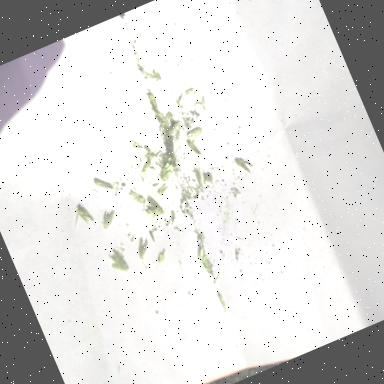pbw: (140, 191, 166, 219), (98, 206, 122, 230), (107, 249, 130, 274), (233, 151, 256, 176), (133, 234, 155, 260), (93, 172, 114, 194), (126, 185, 146, 208), (156, 160, 176, 182), (164, 120, 184, 138), (185, 136, 202, 156), (186, 124, 204, 142), (146, 91, 160, 111), (192, 167, 206, 186), (154, 248, 170, 264), (156, 182, 170, 196), (139, 160, 153, 172)
